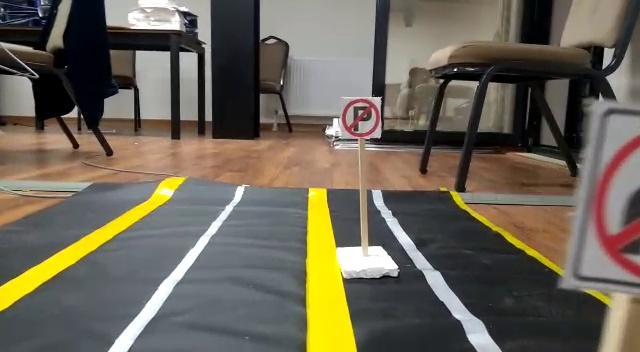park_yapilmaz: (340, 95, 382, 138)
